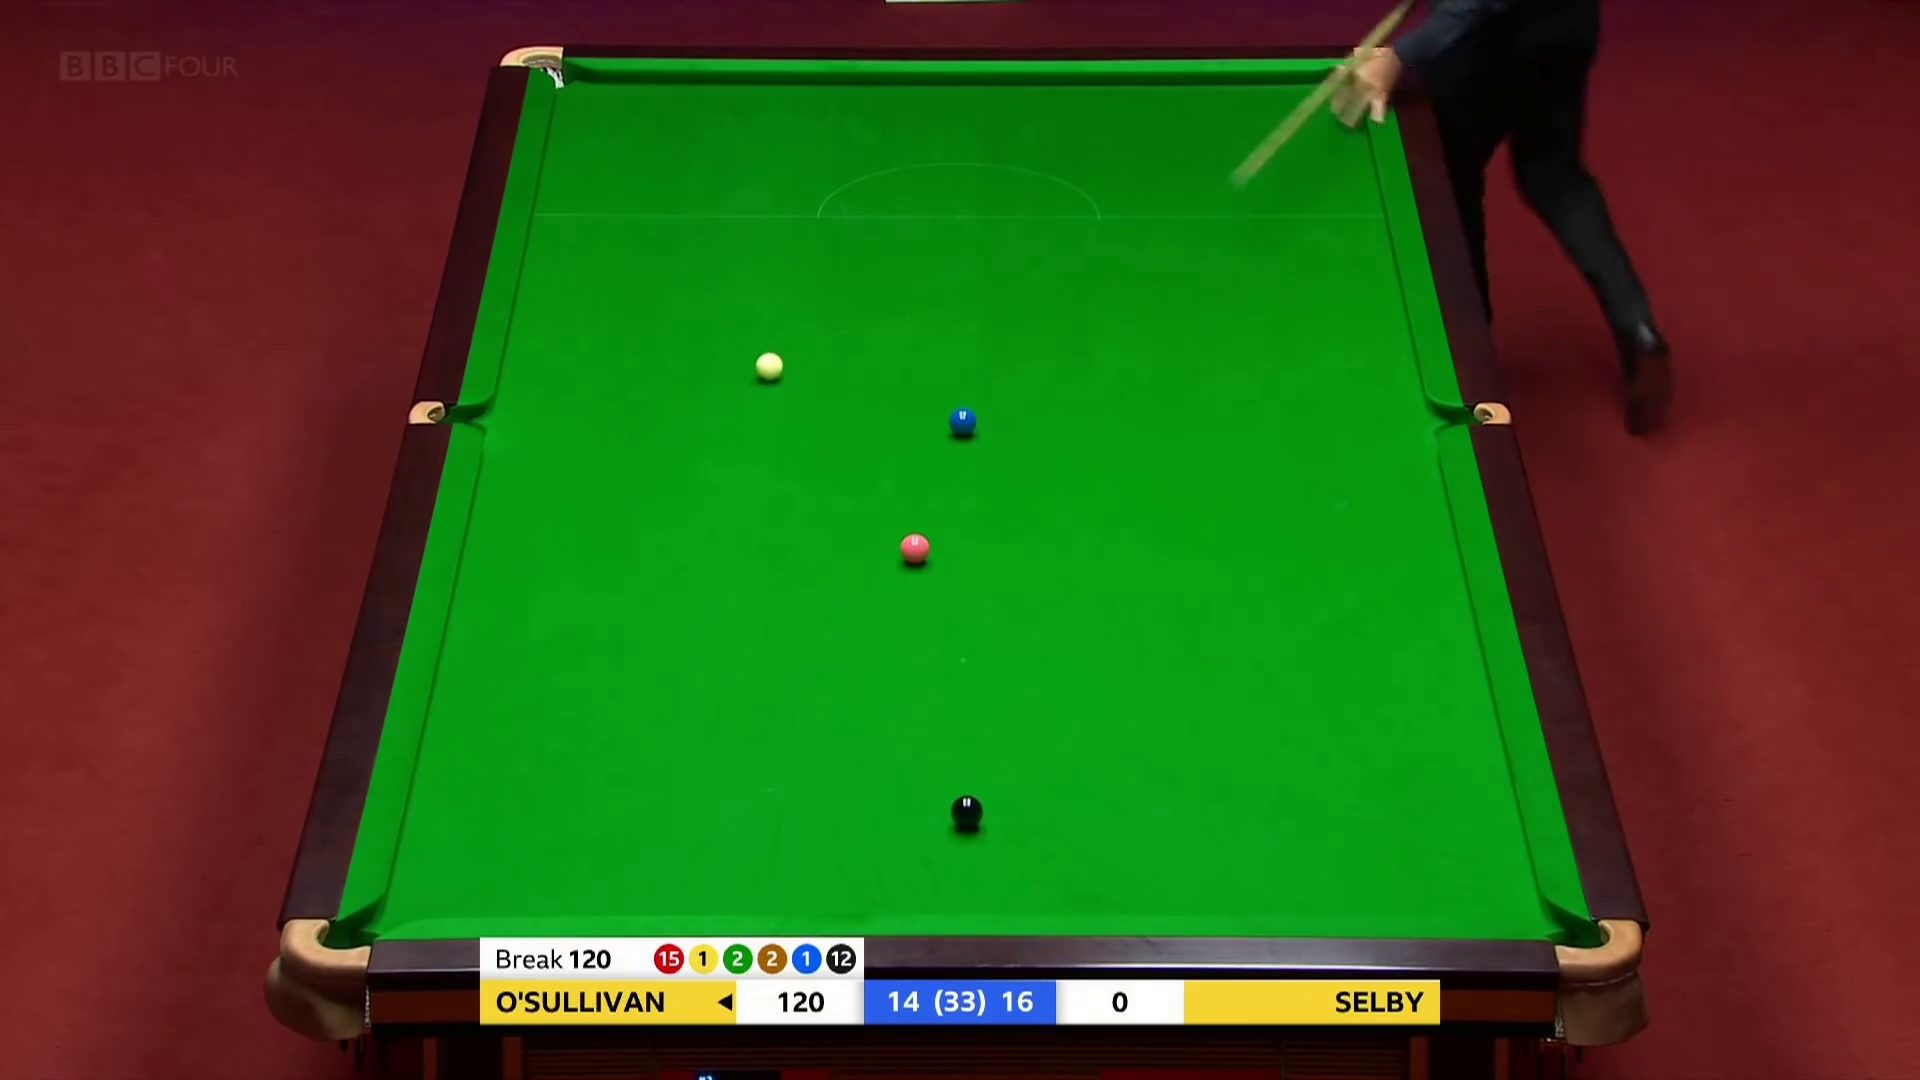black: (947, 787, 993, 841)
blue: (948, 406, 980, 442)
pink: (898, 527, 938, 568)
white: (748, 349, 790, 390)
